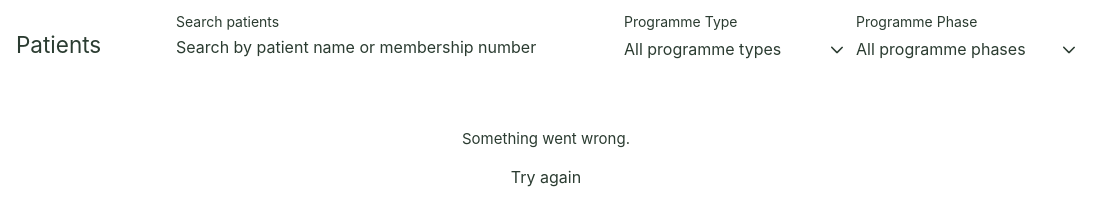
it: PatientsListView › shows error state and retries
Expected: the message "Something went wrong. Try again" is shown, x1=462 y1=129 x2=630 y2=187
Click the button "Try again" at (546, 177), box x1=511 y1=167 x2=581 y2=187
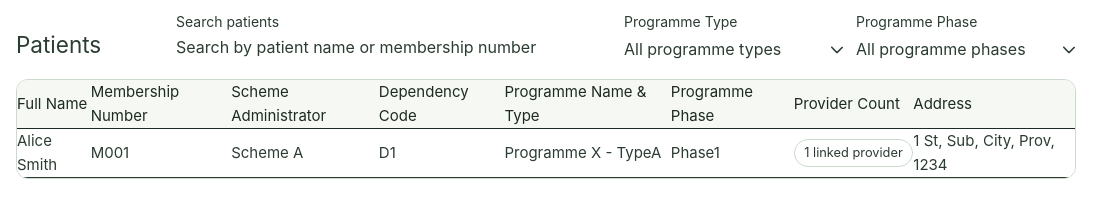
Expected: the text "Alice Smith" is shown, x1=17 y1=129 x2=91 y2=178
